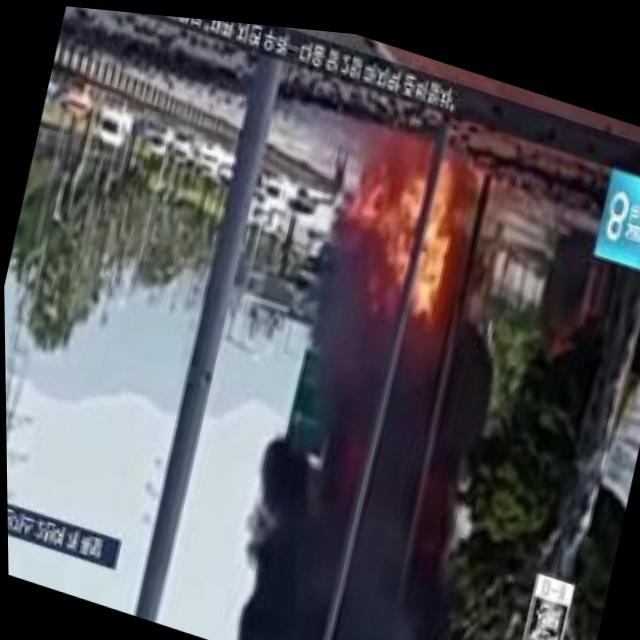Fire: (354, 115, 488, 294)
